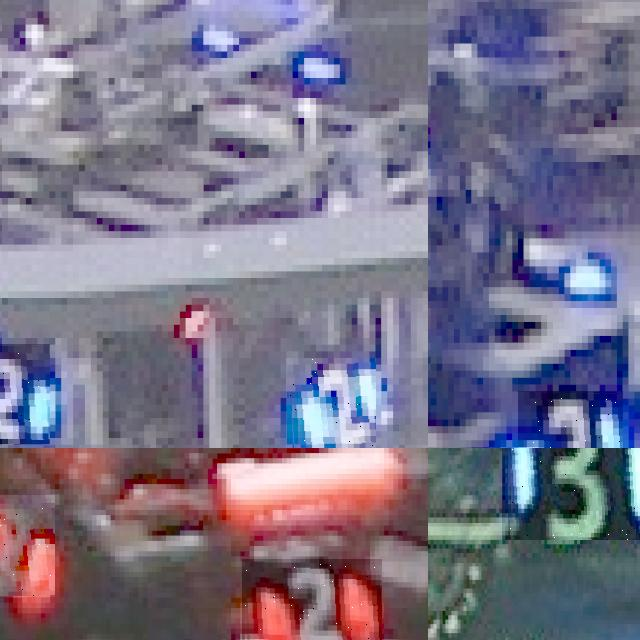B2: (286, 358, 375, 448), (0, 344, 49, 444)
B3: (502, 448, 640, 539), (518, 391, 622, 448)
R2: (242, 559, 381, 640), (0, 494, 55, 597)
